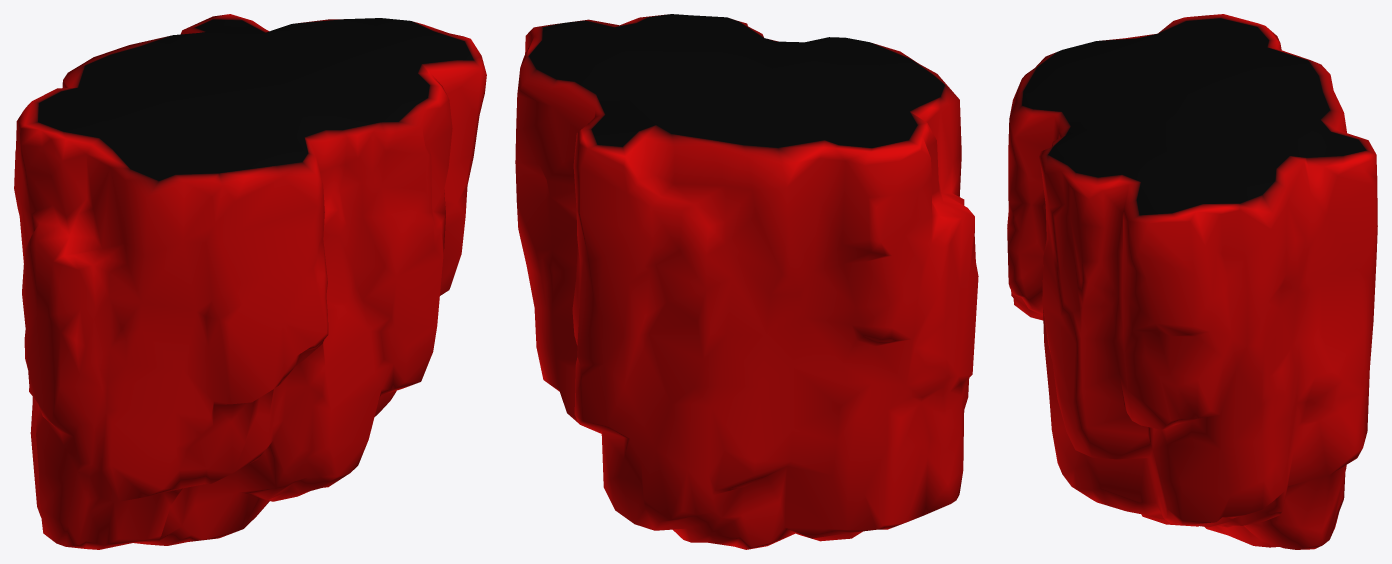
Rendered from SM_Cliff_Large_01.fbx.
3 views of the same model, side by side, from view 1: azimuth 30°, elevation 25°; view 2: azimuth 150°, elevation 25°; view 3: azimuth 270°, elevation 25° (orthographic). The views are drawn at different scales.
Parts seen in each view (by area): view 1: SM_Cliff_Large_01_LOD0; view 2: SM_Cliff_Large_01_LOD0; view 3: SM_Cliff_Large_01_LOD0.
Part boxes in pixels (box(x1,y1,x2,y2)): SM_Cliff_Large_01_LOD0: box(14, 14, 486, 549); SM_Cliff_Large_01_LOD0: box(515, 14, 978, 549); SM_Cliff_Large_01_LOD0: box(1007, 14, 1377, 549).
Size of the model in its own units: 1719 by 1652 by 1260.
